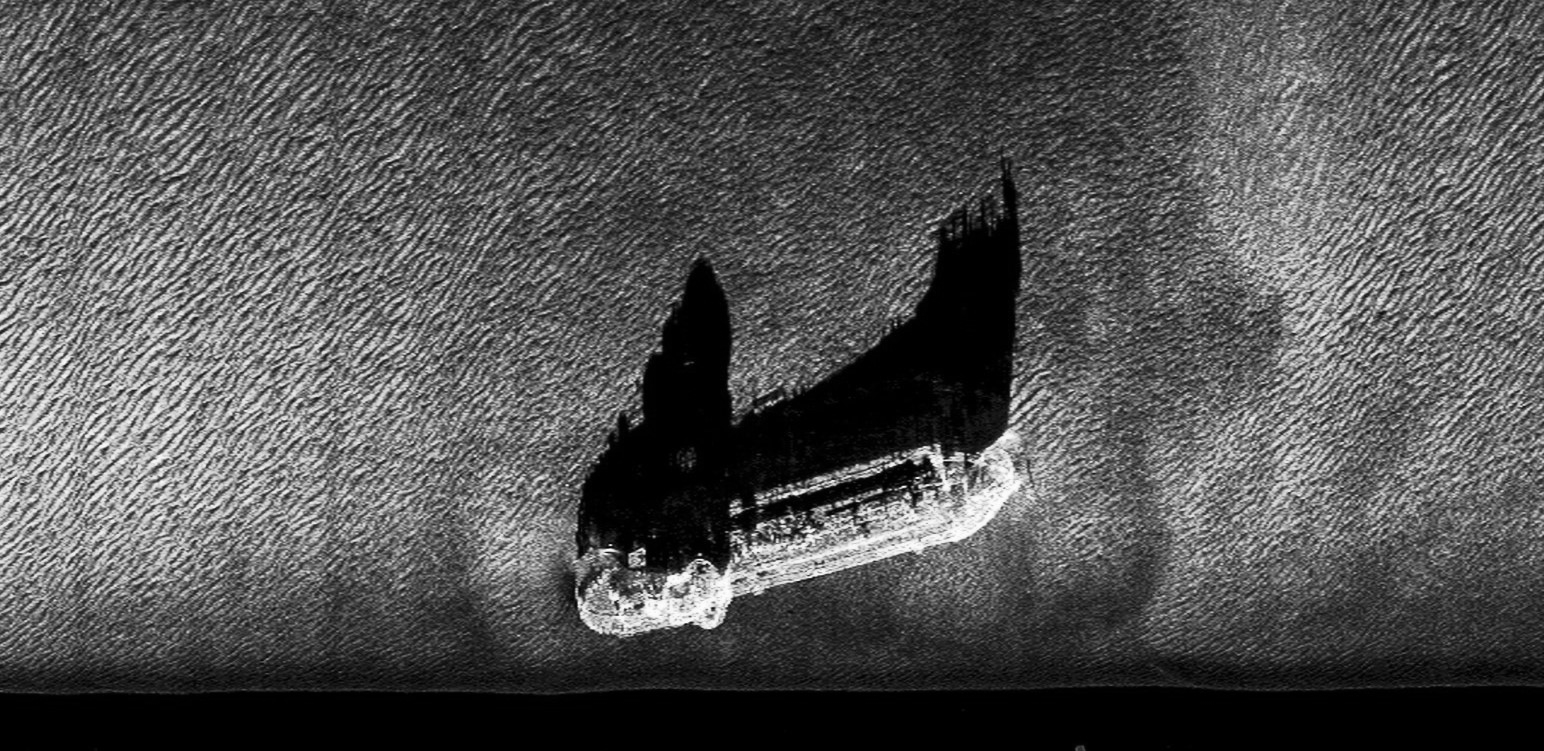ship: (571, 428, 1021, 639)
